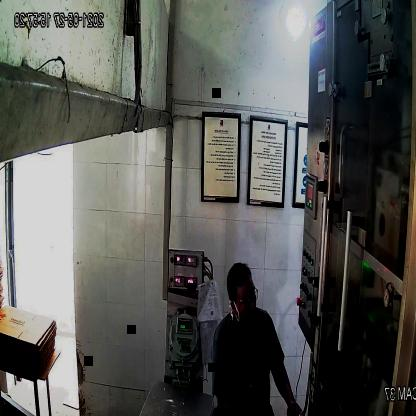goggles: (230, 286, 262, 310)
